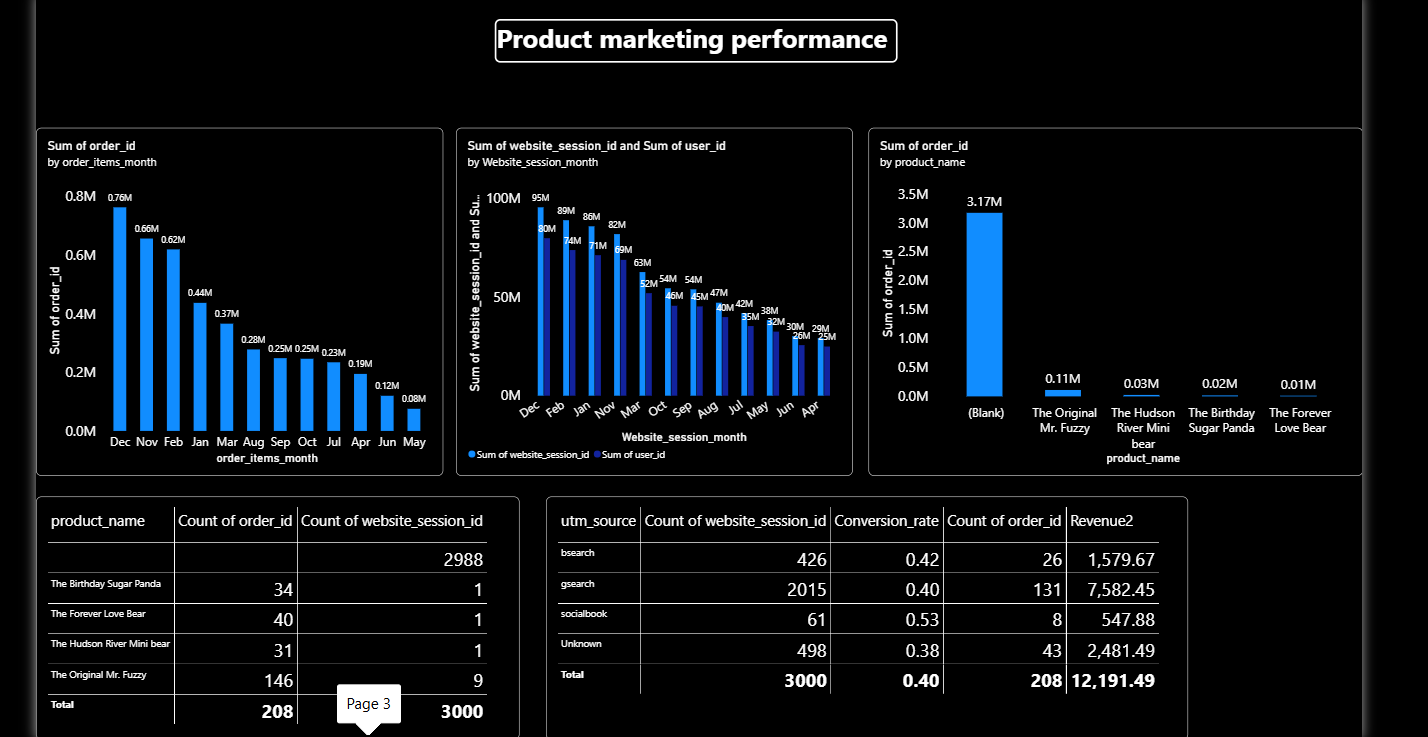

The page's visual inventory and layout, read from the dashboard file:
{"tool":"powerbi","page":{"name":"Page 3","canvas":[1920,1080],"ordinal":2},"visuals":[{"type":"clusteredColumnChart","fields":{"Category":["order_items.order_items_month"],"Y":["Sum(order_items.order_id)"]},"box":[0,193.6,589.9,504.3],"z":0},{"type":"clusteredColumnChart","fields":{"Category":["website_sessions.Website_session_month"],"Y":["Sum(website_sessions.website_session_id)","Sum(website_sessions.user_id)"]},"box":[607.9,193.6,574.1,504.3],"z":1000},{"type":"clusteredColumnChart","fields":{"Category":["products.product_name"],"Y":["Sum(orders.order_id)"]},"box":[1204.5,193.6,716,504.3],"z":2000},{"type":"pivotTable","fields":{"Rows":["products.product_name"],"Values":["Count(order_items.order_id)","Count(website_sessions.website_session_id)"]},"box":[0,727.2,700.2,353.5],"z":3000},{"type":"pivotTable","fields":{"Rows":["website_sessions.utm_source"],"Values":["CountNonNull(website_sessions.website_session_id)","website_sessions.Conversion_rate","CountNonNull(orders.order_id)","orders.Revenue2"]},"box":[738.5,767.7,929.8,312.9],"z":4000},{"type":"textbox","box":[664.2,36,583.1,63],"z":4001}]}

Visuals, with their boxes on the page's 1920x1080 design canvas (x1, y1, x2, y2). These are canvas units, not pixel positions in the 1428x737 screenshot, which may show the page scaled, cropped or inside an application window:
clusteredColumnChart - order_items.order_items_month x Sum(order_items.order_id): (0, 194, 590, 698)
clusteredColumnChart - website_sessions.Website_session_month x Sum(website_sessions.website_session_id): (608, 194, 1182, 698)
clusteredColumnChart - products.product_name x Sum(orders.order_id): (1204, 194, 1920, 698)
pivotTable - products.product_name x Count(order_items.order_id): (0, 727, 700, 1081)
pivotTable - website_sessions.utm_source x CountNonNull(website_sessions.website_session_id): (738, 768, 1668, 1081)
textbox: (664, 36, 1247, 99)
